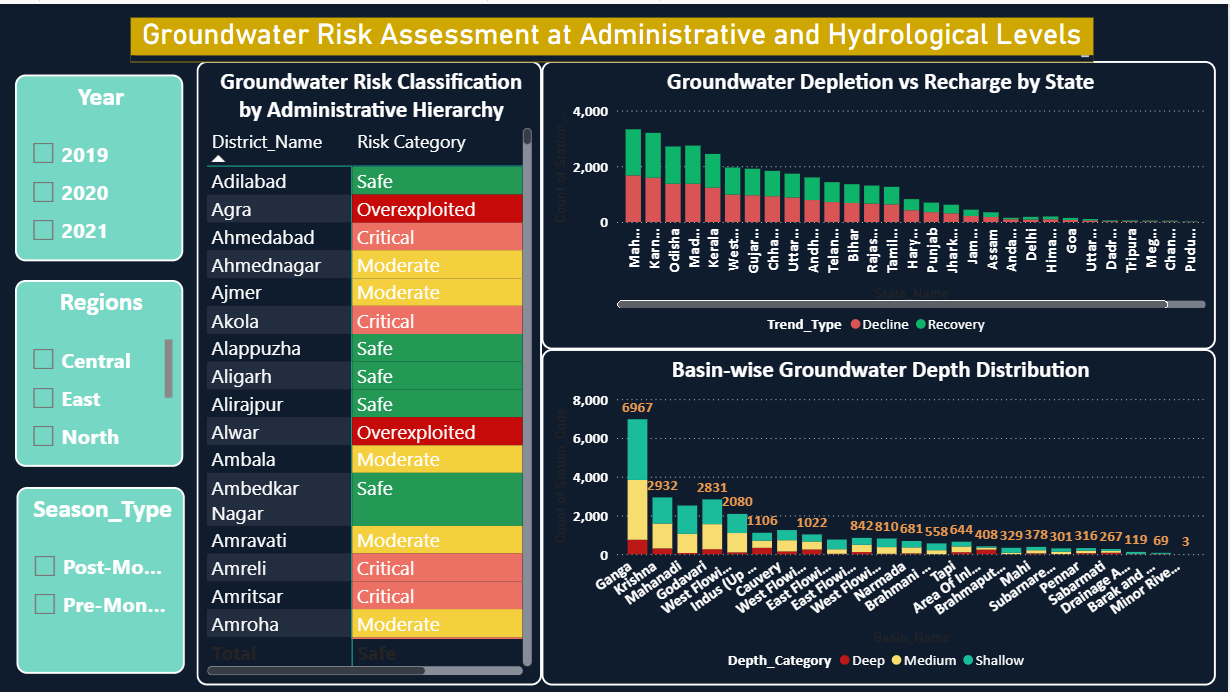

This screenshot's page, from the dashboard's own definition file:
{"tool":"powerbi","page":{"name":"Risk & Basin Analysis","canvas":[1280,720],"ordinal":2},"visuals":[{"type":"columnChart","title":"Groundwater Depletion vs Recharge by State","fields":{"Category":["Dim_State.State_Name"],"Series":["Fact_Ground_Water.Trend_Type"],"Y":["Count(Fact_Ground_Water.Station_Code)"]},"box":[564.3,59.7,702.9,300.4],"z":0},{"type":"slicer","title":"Regions","fields":{"Values":["Dim_Region.Region"]},"box":[15.4,286.9,175.2,194.5],"z":1000},{"type":"slicer","title":"Season_Type","fields":{"Values":["Dim_Date.Monsoon_Season"]},"box":[17.3,502.6,175.2,194.5],"z":2000},{"type":"pivotTable","title":"Groundwater Risk Classification by Administrative Hierarchy","fields":{"Values":["Measure.Risk Category"],"Rows":["Dim_Station.Location Hierarchy.Country","Dim_Station.Location Hierarchy.Region","Dim_Station.Location Hierarchy.State Name","Dim_Station.Location Hierarchy.District_Name"]},"box":[204.1,59.7,360.1,650.9],"z":3000},{"type":"slicer","title":"Year","fields":{"Values":["Dim_Date.Year"]},"box":[15.4,73.2,175.2,194.5],"z":4000},{"type":"columnChart","title":"Basin-wise Groundwater Depth Distribution","fields":{"Category":["Dim_Basin.Basin_Name"],"Y":["Count(Fact_Ground_Water.Station_Code)"],"Series":["Fact_Ground_Water.Depth_Category"]},"box":[564.3,360.1,702.9,350.5],"z":5000},{"type":"textbox","title":"Groundwater Risk Assessment at Administrative and Hydrological Levels","box":[136.7,13.5,1003.3,46.2],"z":6000}]}

Visuals, with their boxes in screenshot pixels (x1, y1, x2, y2), scaled from the page's 1280x720 canvas onto the 1230x692 screenshot:
"Groundwater Depletion vs Recharge by State" columnChart: locate(542, 57, 1218, 346)
"Regions" slicer: locate(15, 276, 183, 463)
"Season_Type" slicer: locate(17, 483, 185, 670)
"Groundwater Risk Classification by Administrative Hierarchy" pivotTable: locate(196, 57, 542, 683)
"Year" slicer: locate(15, 70, 183, 257)
"Basin-wise Groundwater Depth Distribution" columnChart: locate(542, 346, 1218, 683)
"Groundwater Risk Assessment at Administrative and Hydrological Levels" textbox: locate(131, 13, 1095, 57)
